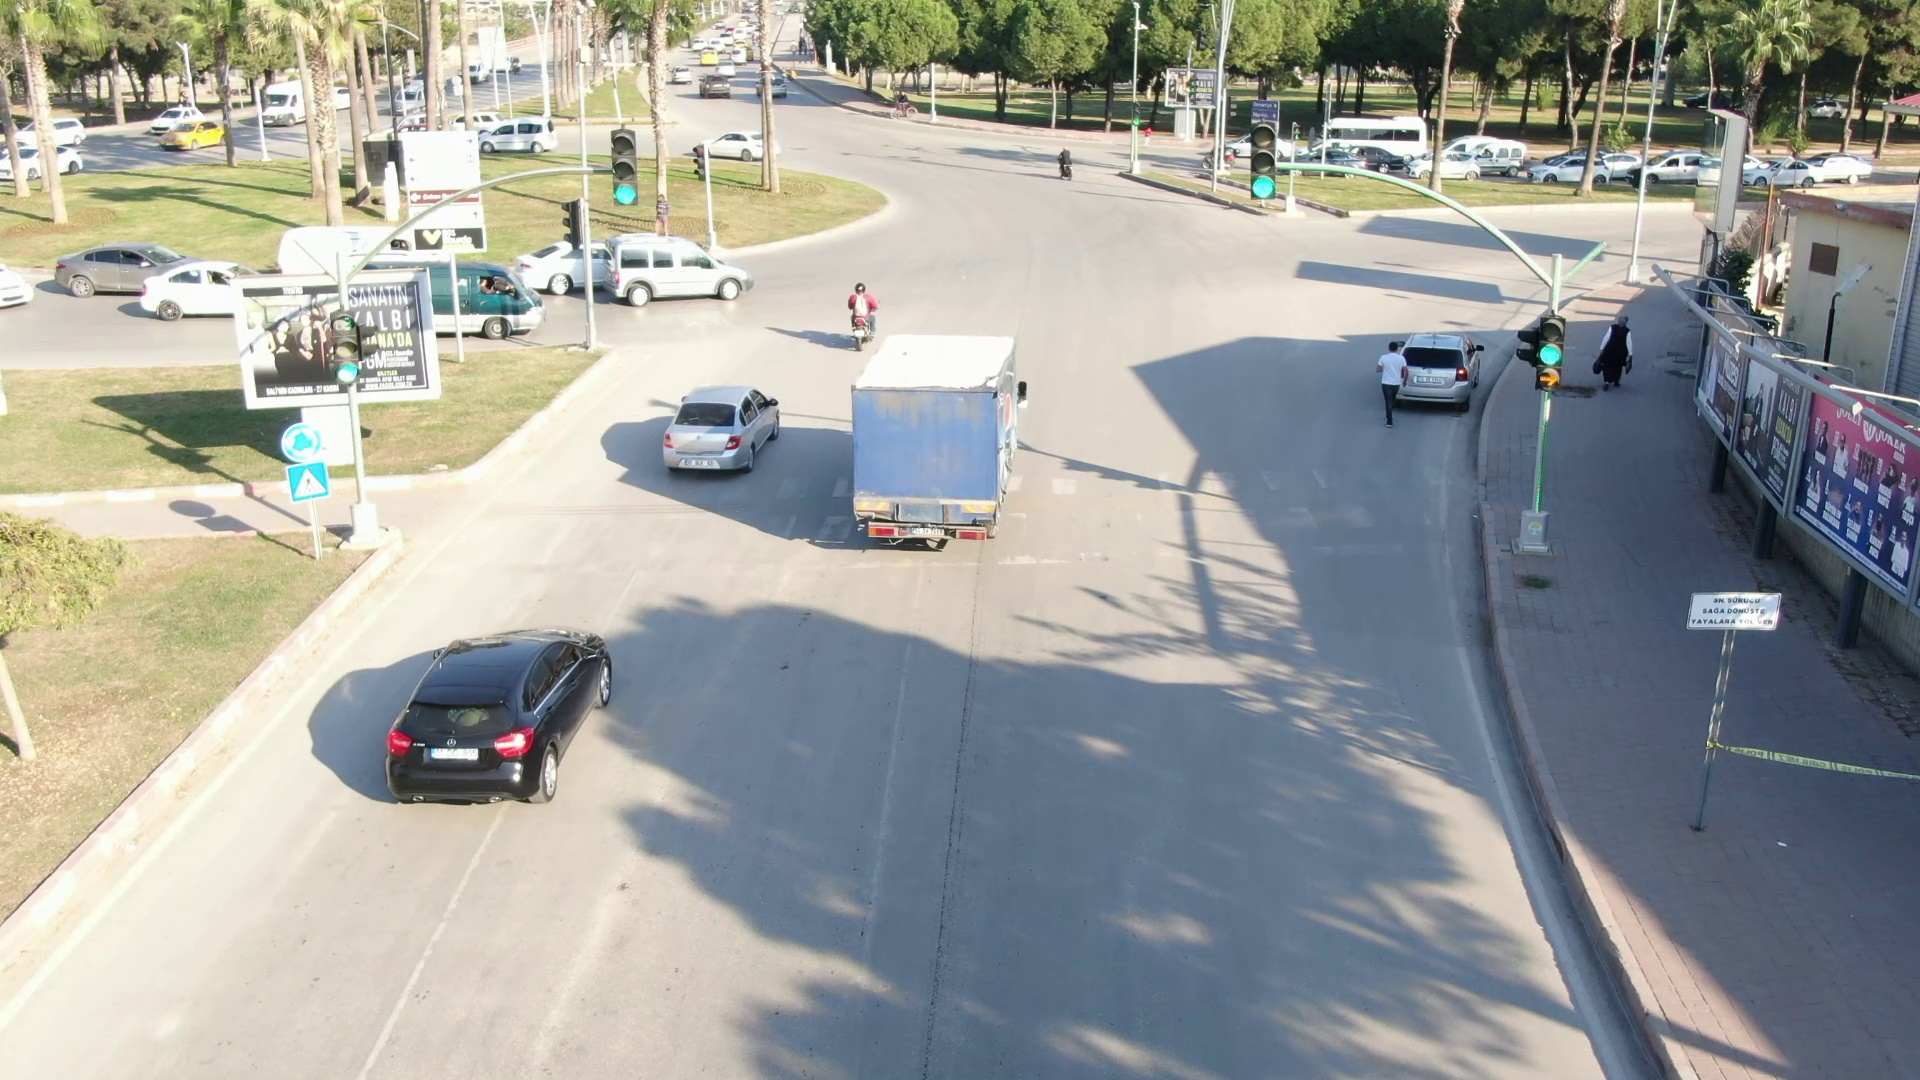car: (372, 600, 627, 823), (650, 355, 787, 489), (596, 224, 763, 311), (41, 232, 181, 296), (1522, 151, 1616, 187), (703, 120, 777, 165), (473, 116, 564, 150)
person: (1593, 311, 1635, 393), (1373, 335, 1405, 429)
